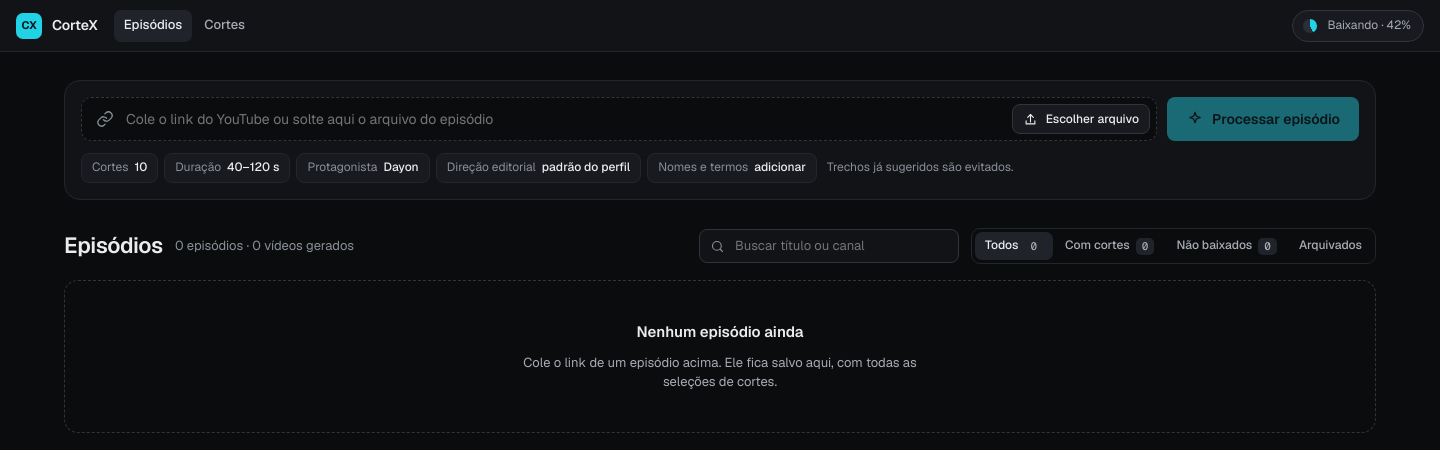
the activity pill shows the newest running job, lists active jobs and polls faster while busy
This screenshot has width=1440, height=450.
Click the button "Baixando · 42%". click: (1358, 26)
box: [1292, 10, 1424, 42]
Wait 3100 ms
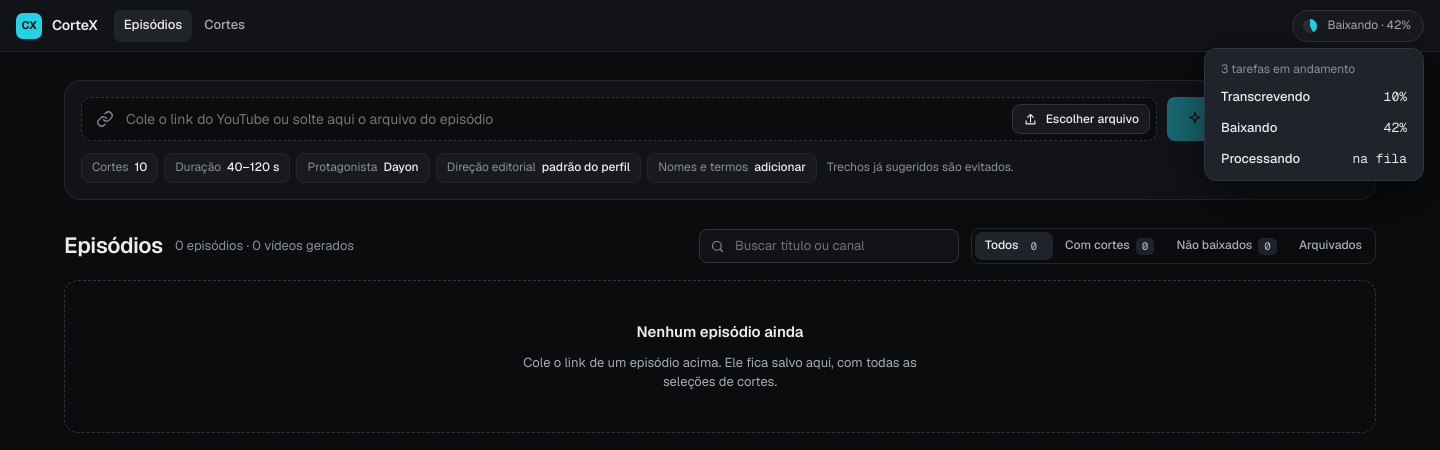
Now the text "3 tarefas em andamento" is shown, box [1221, 60, 1355, 76]
Now the text "Transcrevendo" is shown, box [1221, 88, 1310, 107]
Now the text "Processando" is shown, box [1221, 150, 1300, 168]
